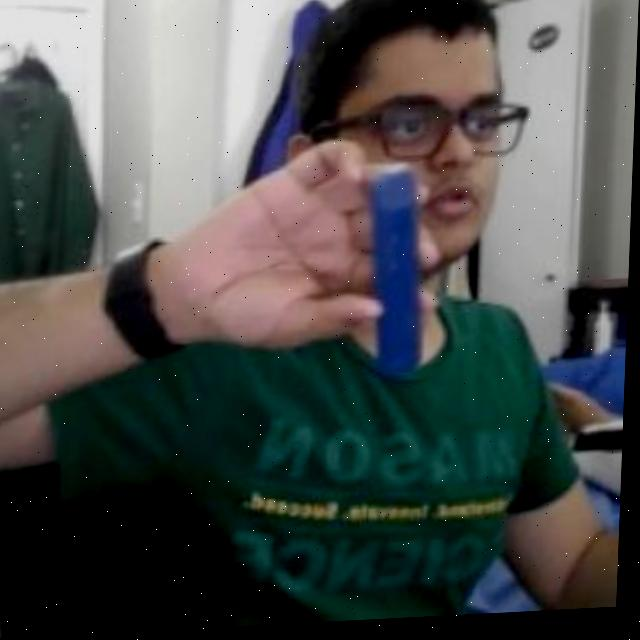vape: (361, 163, 432, 390)
